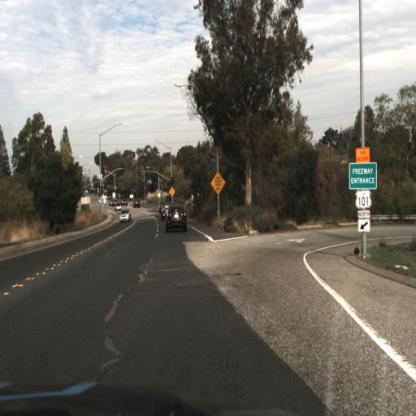car: (164, 204, 189, 236), (116, 205, 133, 225), (157, 197, 170, 222), (119, 205, 133, 223)
